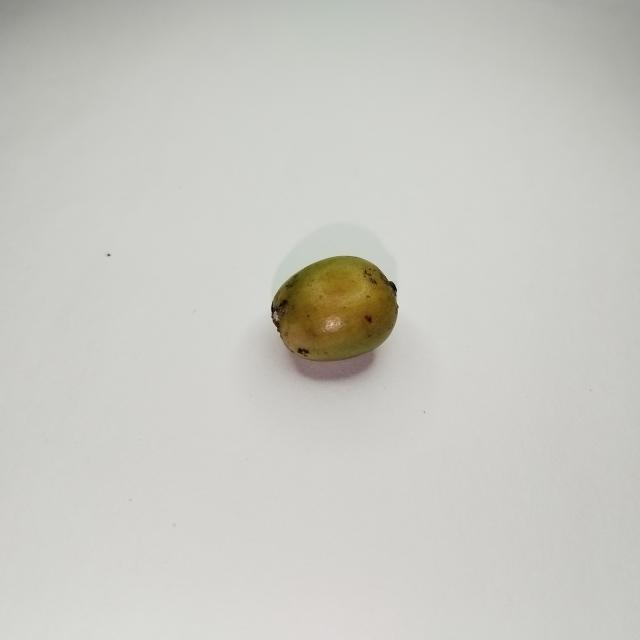Sano: (271, 256, 398, 361)
